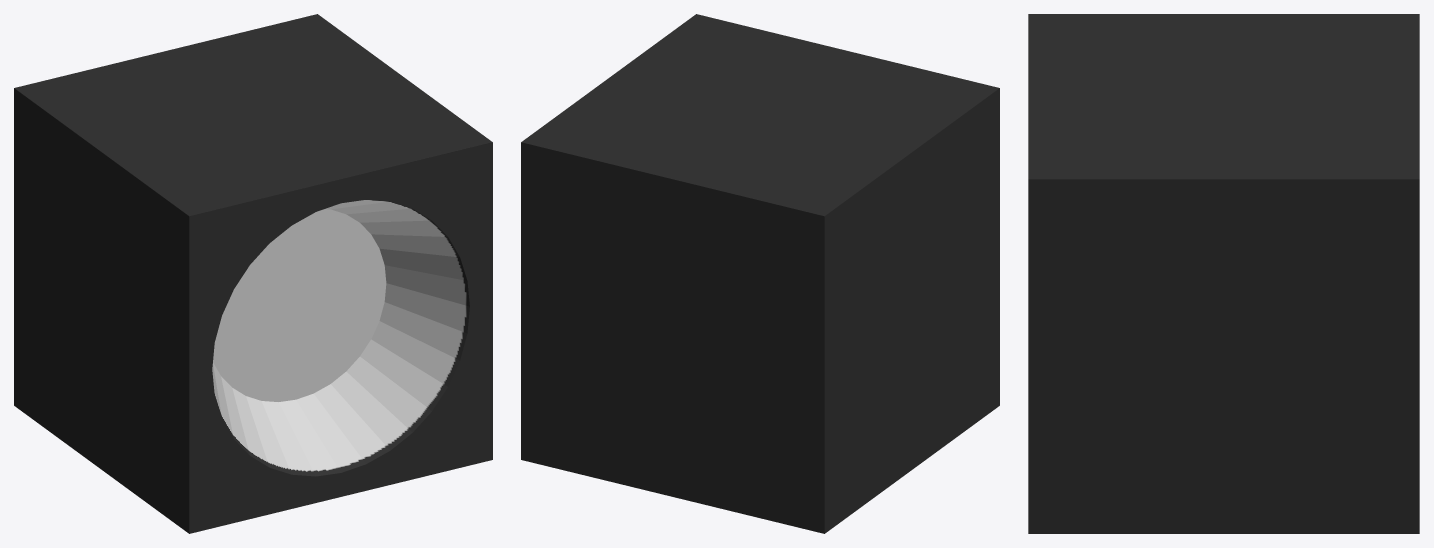
The model's file is SpotLight.obj.
3 views of the same model, side by side, from view 1: azimuth 30°, elevation 25°; view 2: azimuth 150°, elevation 25°; view 3: azimuth 270°, elevation 25° (orthographic). The views are drawn at different scales.
Parts seen in each view (by area): view 1: lightCube; view 2: lightCube; view 3: lightCube.
Part boxes in pixels (bbox=[...]): lightCube: bbox=[14, 14, 492, 533]; lightCube: bbox=[521, 14, 999, 533]; lightCube: bbox=[1028, 14, 1419, 533].
Bounding box in the file's own units: 1 × 1 × 1.
1 material, 1 textured.
